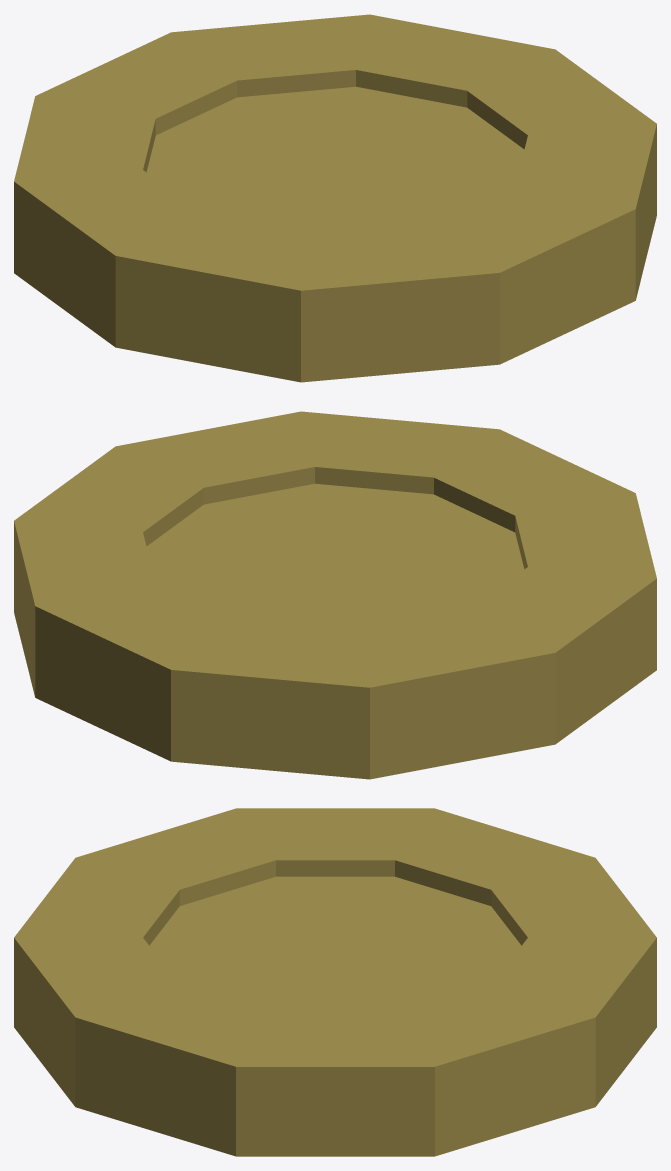
Rendered from nivel2 moneda.fbx.
3 renders of one model, top to bottom at view 1: azimuth 30°, elevation 25°; view 2: azimuth 150°, elevation 25°; view 3: azimuth 270°, elevation 25°, orthographic. The views are drawn at different scales.
Parts seen in each view (by area): view 1: moneda de oro; view 2: moneda de oro; view 3: moneda de oro.
Part boxes in pixels (x1=…): moneda de oro: x1=14, y1=14, x2=656, y2=382; moneda de oro: x1=14, y1=411, x2=656, y2=779; moneda de oro: x1=14, y1=808, x2=656, y2=1156.
Size of the model in its own units: 190 by 30.8 by 200.
